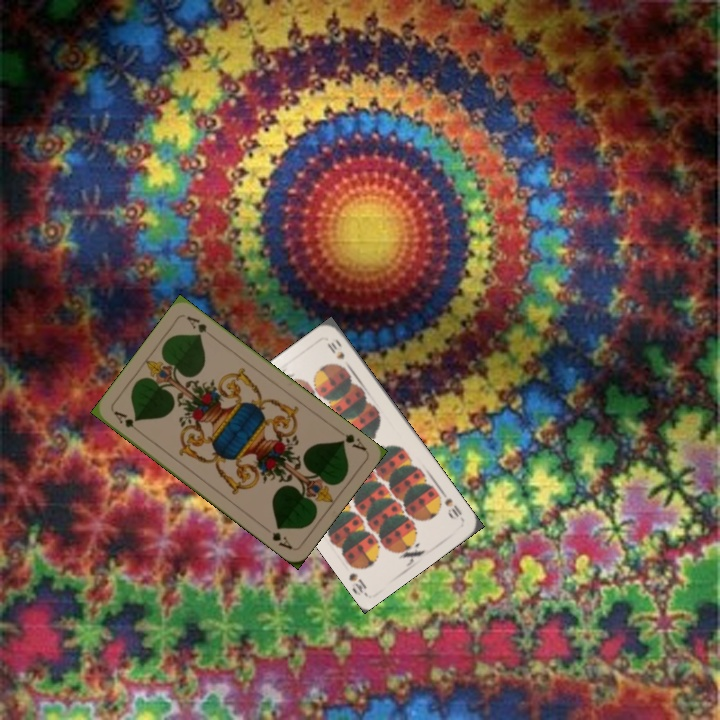GA: (110, 407, 144, 436), (335, 430, 369, 453)
S10: (440, 494, 465, 520)
